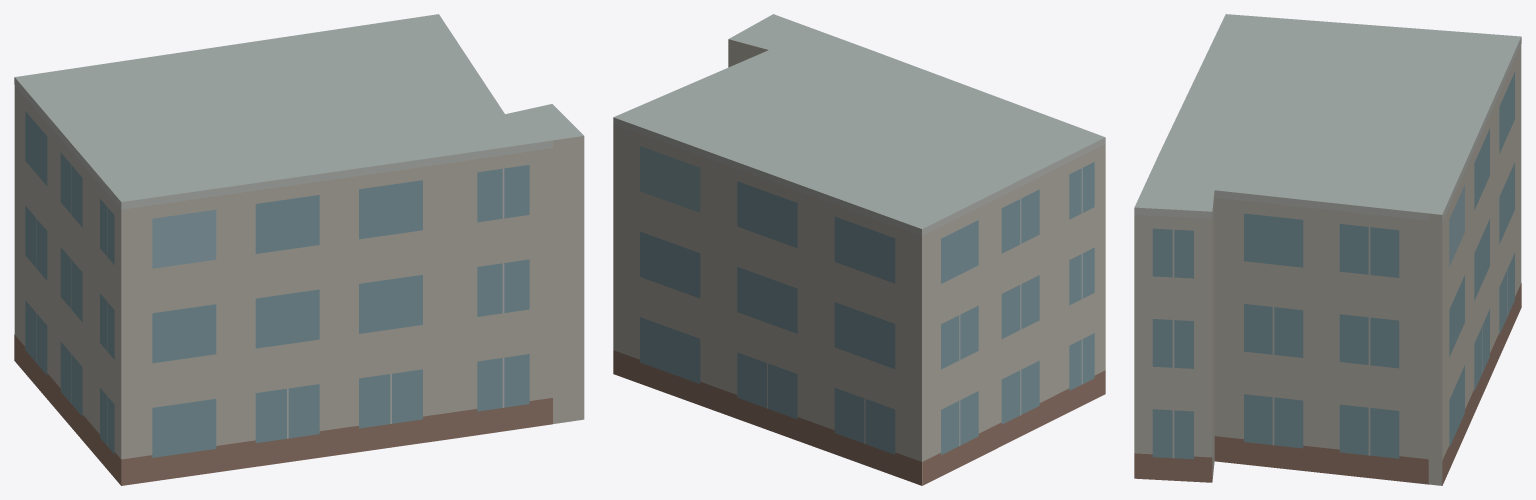
File: survey-upis-32544062.glb
3 renders of one model, left to right at view 1: azimuth 30°, elevation 25°; view 2: azimuth 150°, elevation 25°; view 3: azimuth 270°, elevation 25°, orthographic. The views are drawn at different scales.
Parts seen in each view (by area): view 1: survey-upis-32544062.tmp; view 2: survey-upis-32544062.tmp; view 3: survey-upis-32544062.tmp.
Boxes of the visible parts, box(x1,y1,x2,y2) form: survey-upis-32544062.tmp: box(14, 14, 584, 485); survey-upis-32544062.tmp: box(613, 14, 1105, 485); survey-upis-32544062.tmp: box(1134, 14, 1521, 485).
Bounding box in the file's own units: 14.55 × 9.15 × 11.85.
